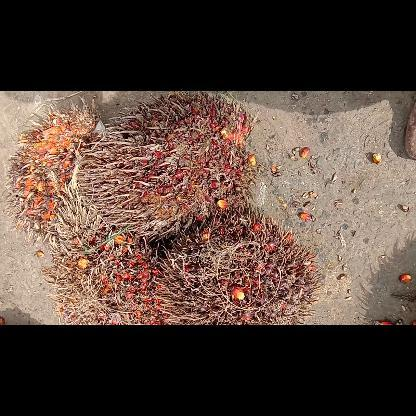Terlalu masak: (78, 91, 258, 241), (41, 140, 172, 324), (154, 208, 322, 324), (4, 96, 100, 242)
